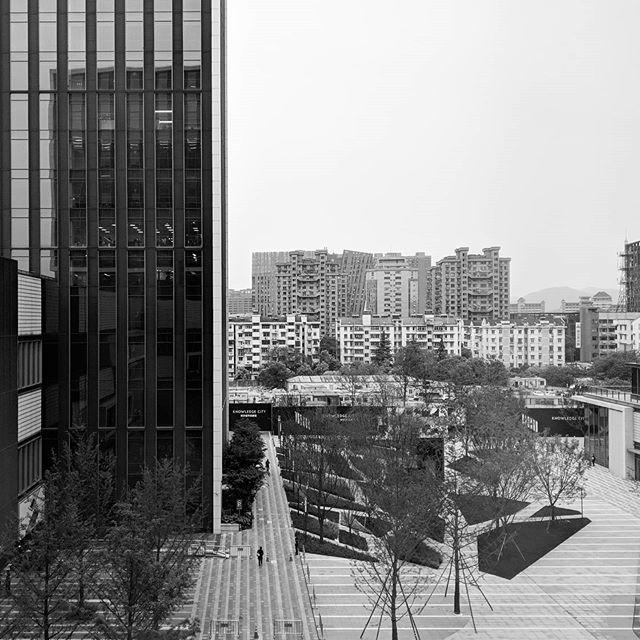building: (1, 1, 227, 518), (254, 252, 355, 325), (438, 245, 517, 323), (232, 318, 324, 378), (339, 319, 461, 364), (357, 246, 428, 315), (477, 317, 568, 368)
sky: (238, 1, 618, 292)
tree: (308, 321, 509, 640), (1, 434, 108, 640), (103, 453, 212, 640), (225, 422, 266, 527)
